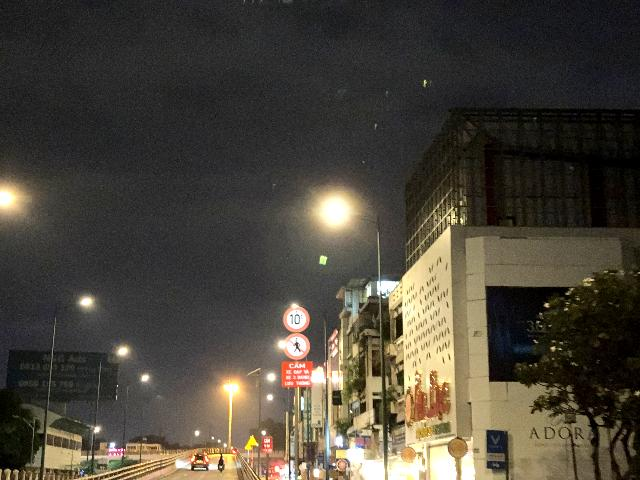cam-nguoi-di-bo: (284, 333, 310, 360)
han-che-trong-luong-xe: (283, 306, 310, 333)
